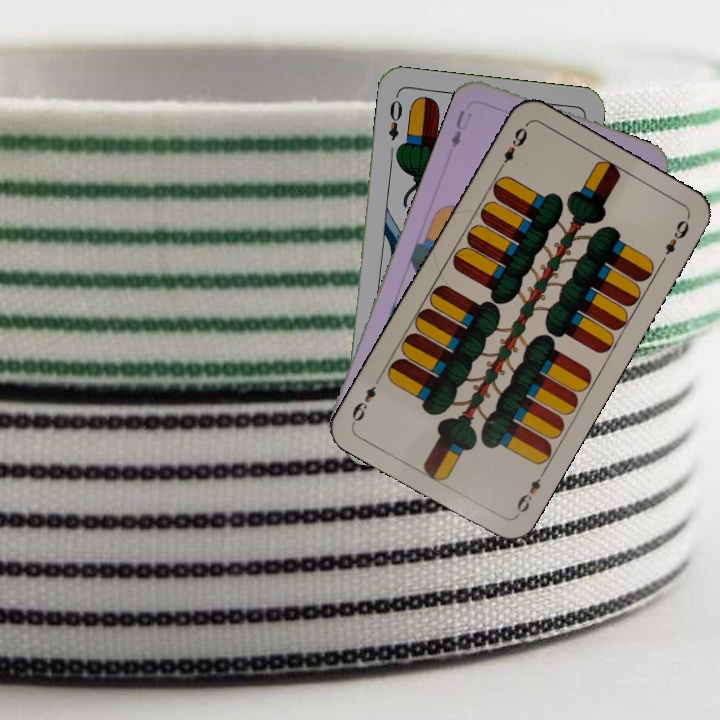E9: (511, 466, 548, 520), (494, 123, 530, 175)
EO: (384, 91, 405, 143)
EU: (446, 106, 475, 151)
